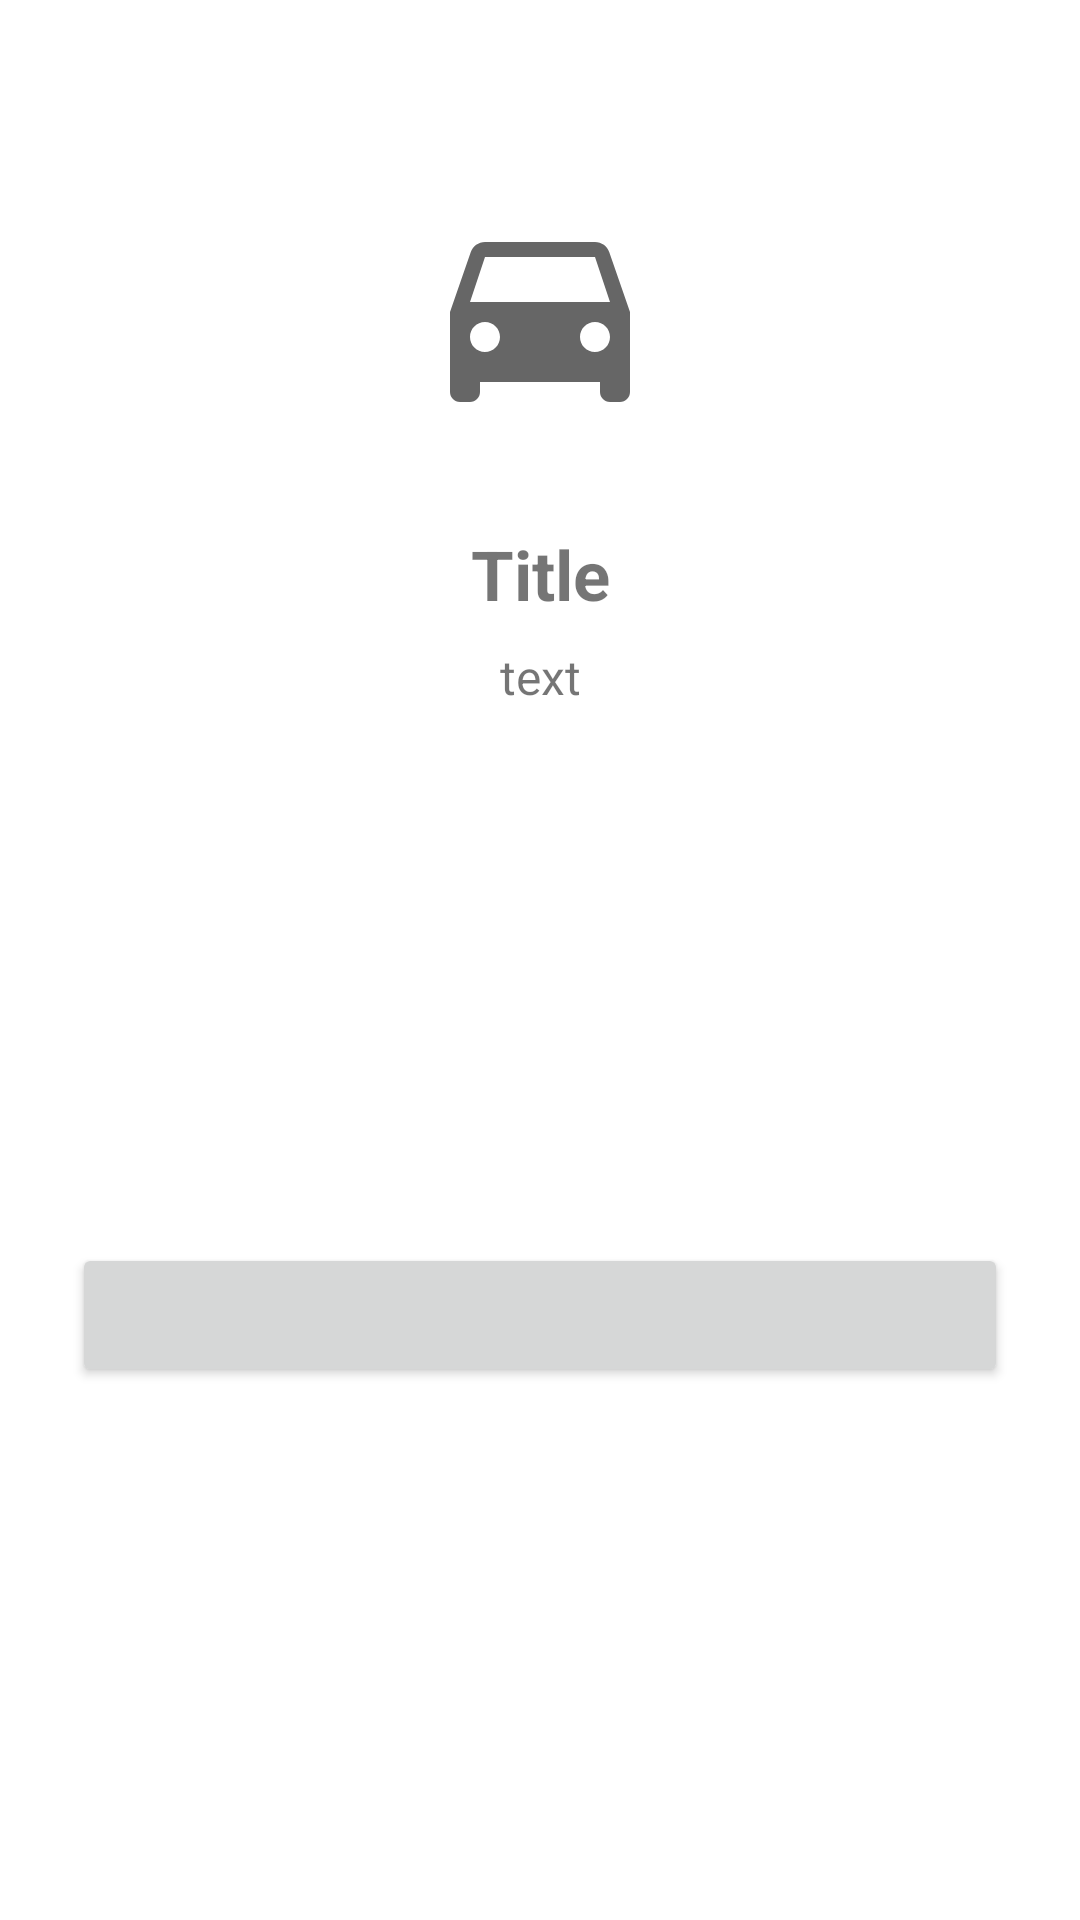

Icon bounding boxes for this 1080px×1920px phone screenshot, format (x1, y1, x2, y2):
car: (450, 242, 630, 402)
